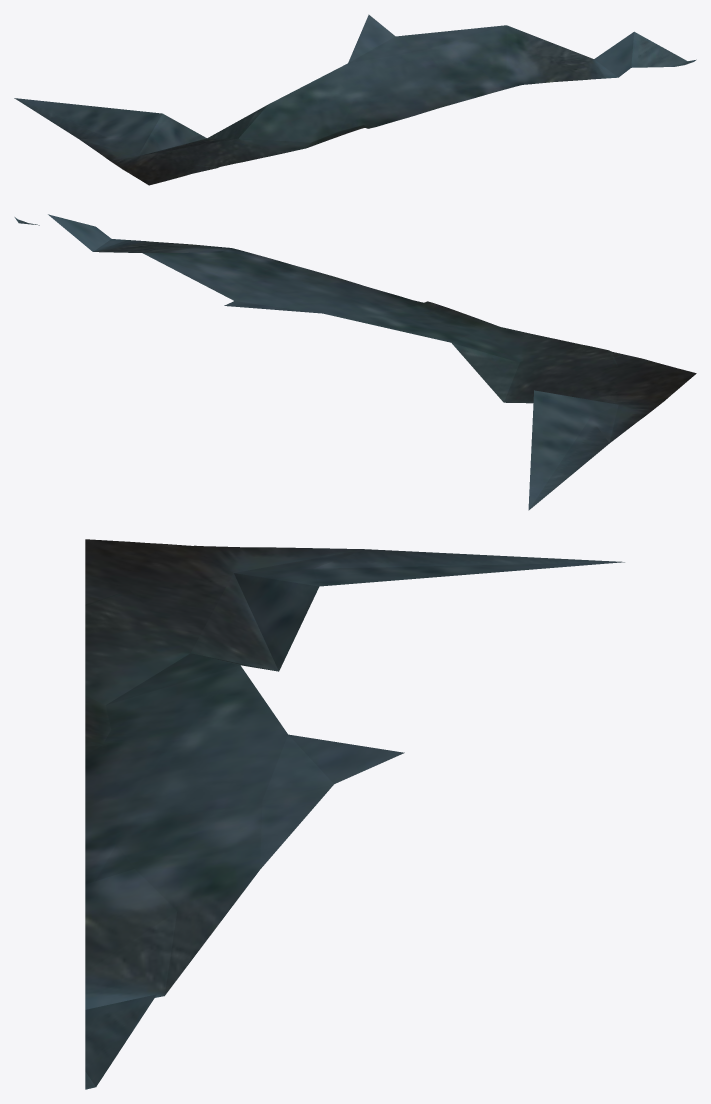
The picture shows the model from 3 angles, top to bottom: view 1: azimuth 30°, elevation 25°; view 2: azimuth 150°, elevation 25°; view 3: azimuth 270°, elevation 25°; orthographic projection. The views are drawn at different scales.
Bounding box in the file's own units: 1.59 × 0.1492 × 0.6806.
Materials: 1 (1 with a texture image).
